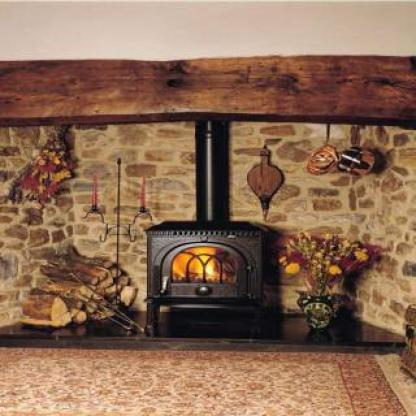fire: (166, 244, 223, 282)
